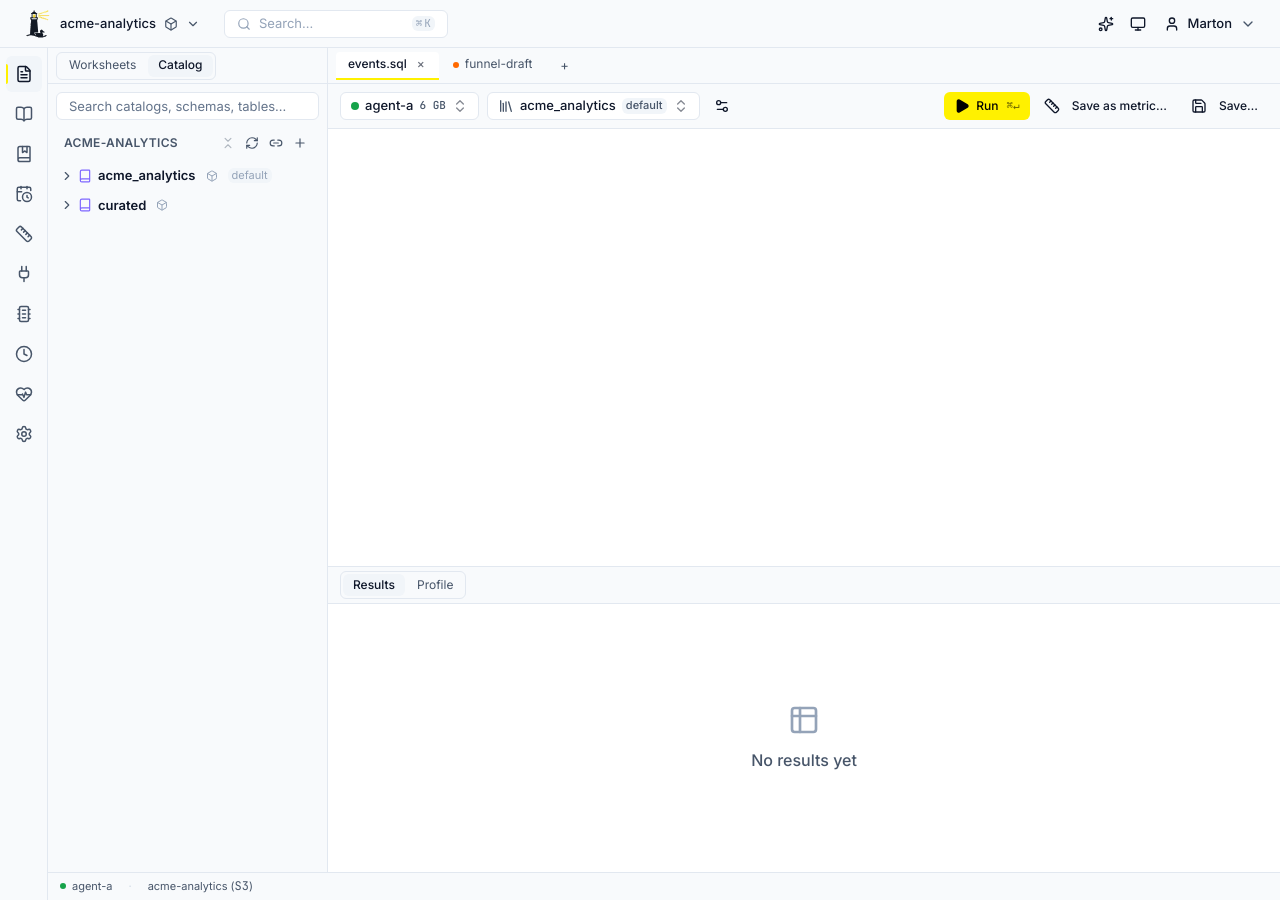
Test: AssistantPanel › shows no catalog chip when the last query touched no resolvable table
The width and height of the screenshot is (1280, 900).
Click the button named "Toggle AI assistant".
click(1106, 24)  # box [1092,10,1120,38]
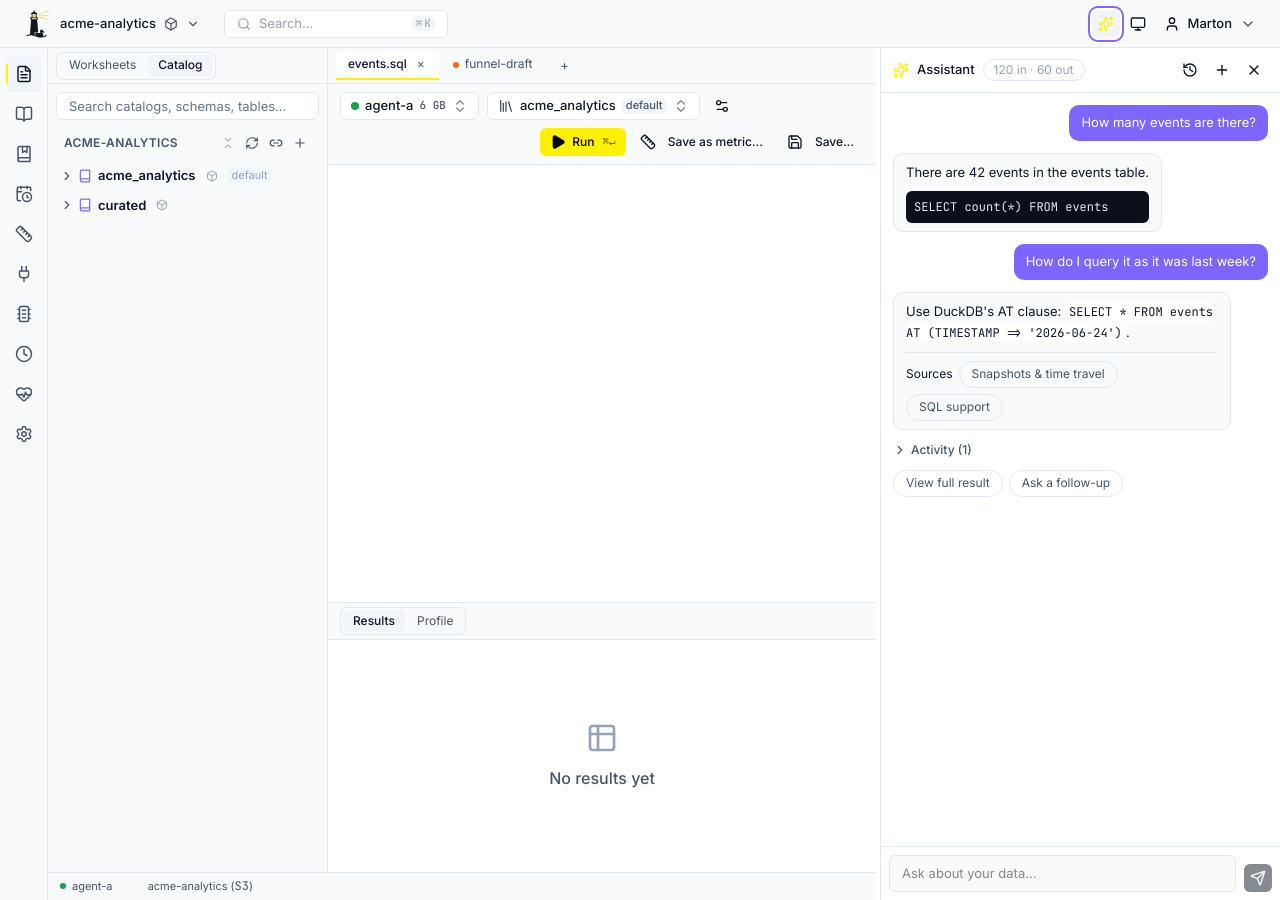
expect the text "There are 42 events in the events table." is shown: met, box [906,162,1149,183]
